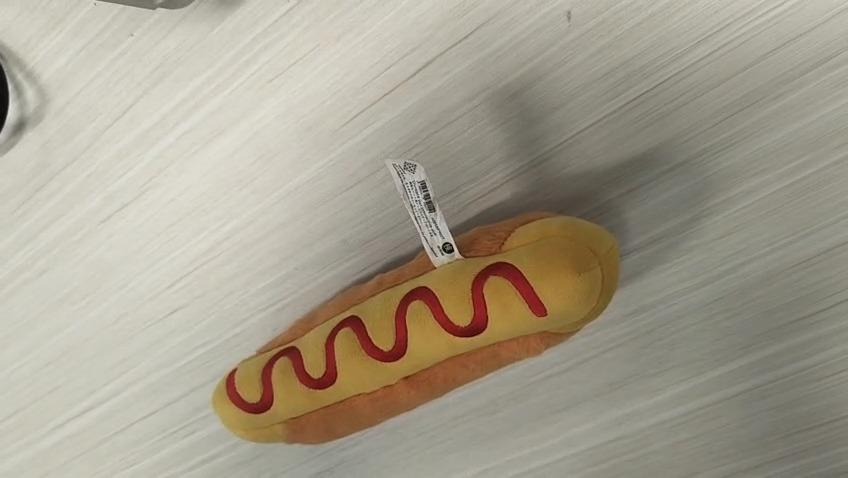hotdog: (210, 208, 621, 445)
